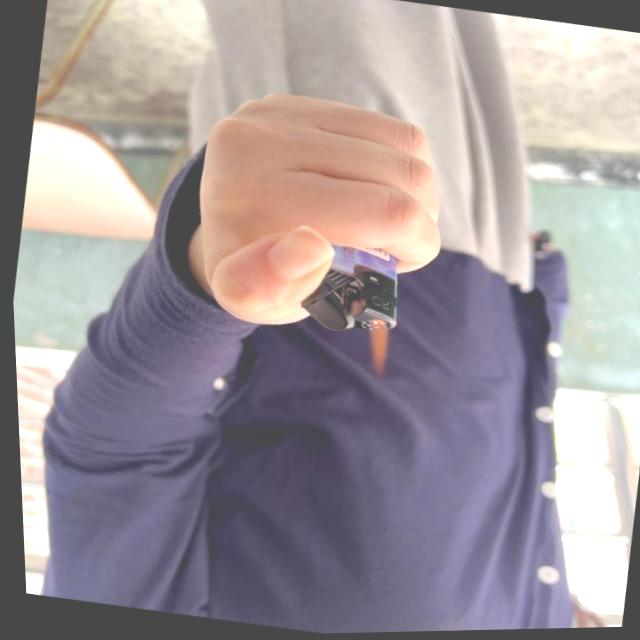helmet: (353, 319, 391, 379)
